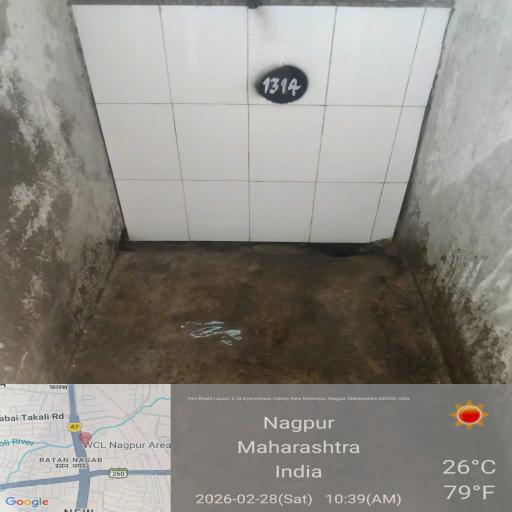clean_floor: (57, 0, 488, 235)
dirty_floor: (119, 235, 512, 512), (0, 11, 123, 512)
